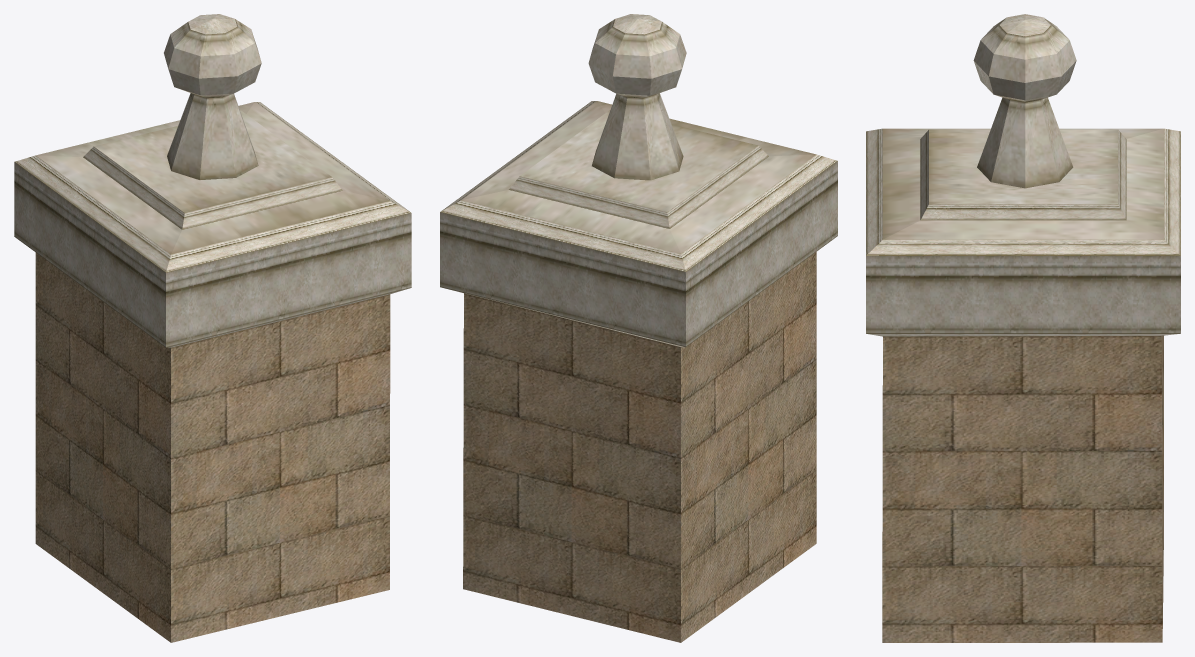
File: thm_nboo_imprv_pillar_s03_l0.fbx
3 views of the same model, side by side, from view 1: azimuth 30°, elevation 25°; view 2: azimuth 150°, elevation 25°; view 3: azimuth 270°, elevation 25° (orthographic). The views are drawn at different scales.
Parts seen in each view (by area): view 1: mesh_node; view 2: mesh_node; view 3: mesh_node.
Part boxes in pixels (left/top/right/bottom): mesh_node: left=14, top=14, right=411, bottom=642; mesh_node: left=440, top=14, right=837, bottom=642; mesh_node: left=866, top=14, right=1180, bottom=642.
Bounding box in the file's own units: 2.28 × 4.84 × 2.43.
Materials: 1 (1 with a texture image).
